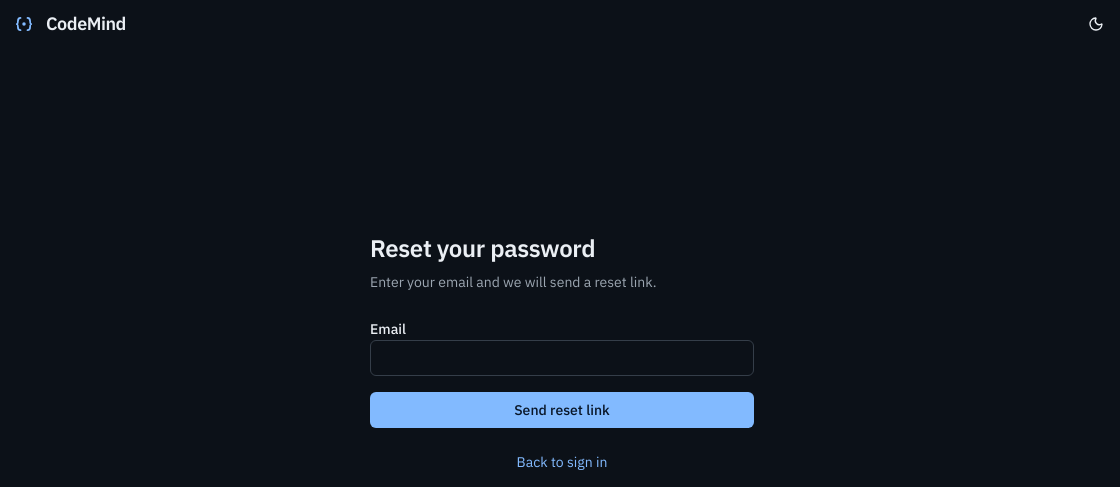
Test case: ForgotPasswordPage › shows the same neutral confirmation whether or not the account exists
Type "ghost@example.com" into the field labelled "Email" at (562, 358), box x1=370 y1=340 x2=754 y2=376
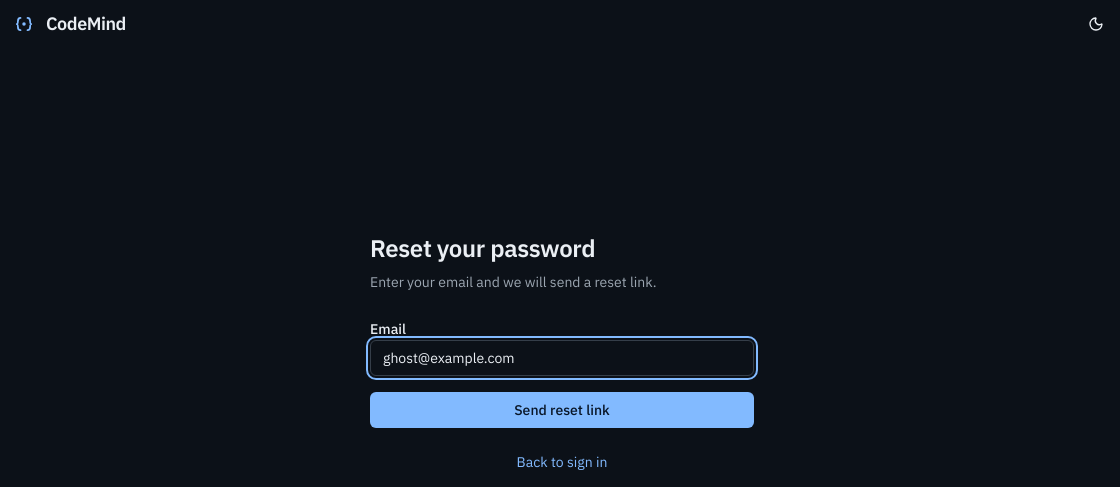
Click the button "Send reset link" at (562, 410), box x1=370 y1=392 x2=754 y2=428
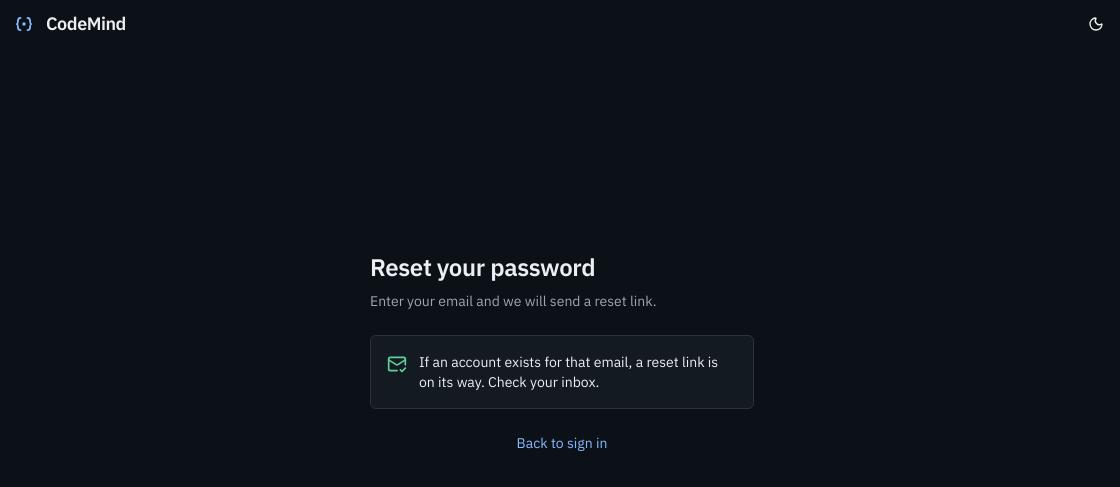
expect the message shows "If an account exists": met, box x1=419 y1=353 x2=718 y2=391
